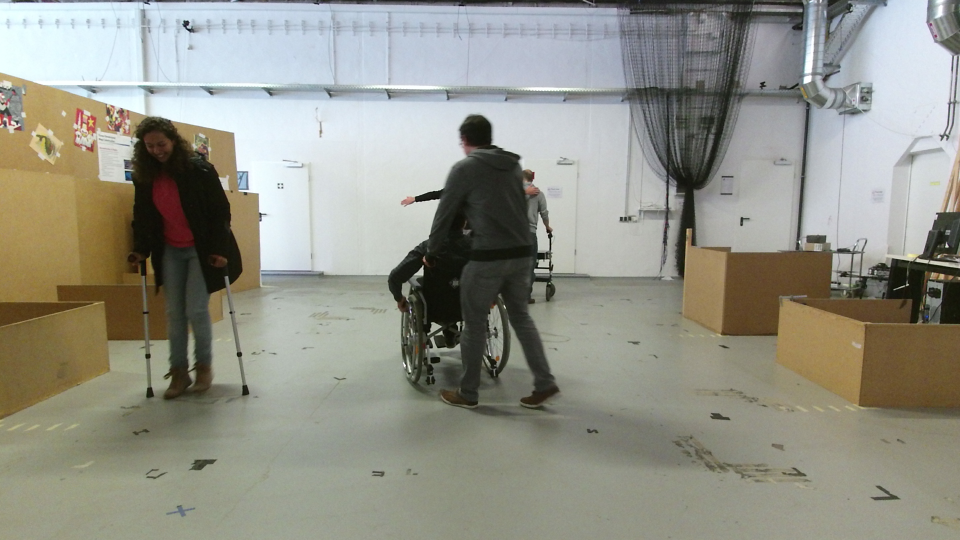crutches: (114, 103, 252, 410)
